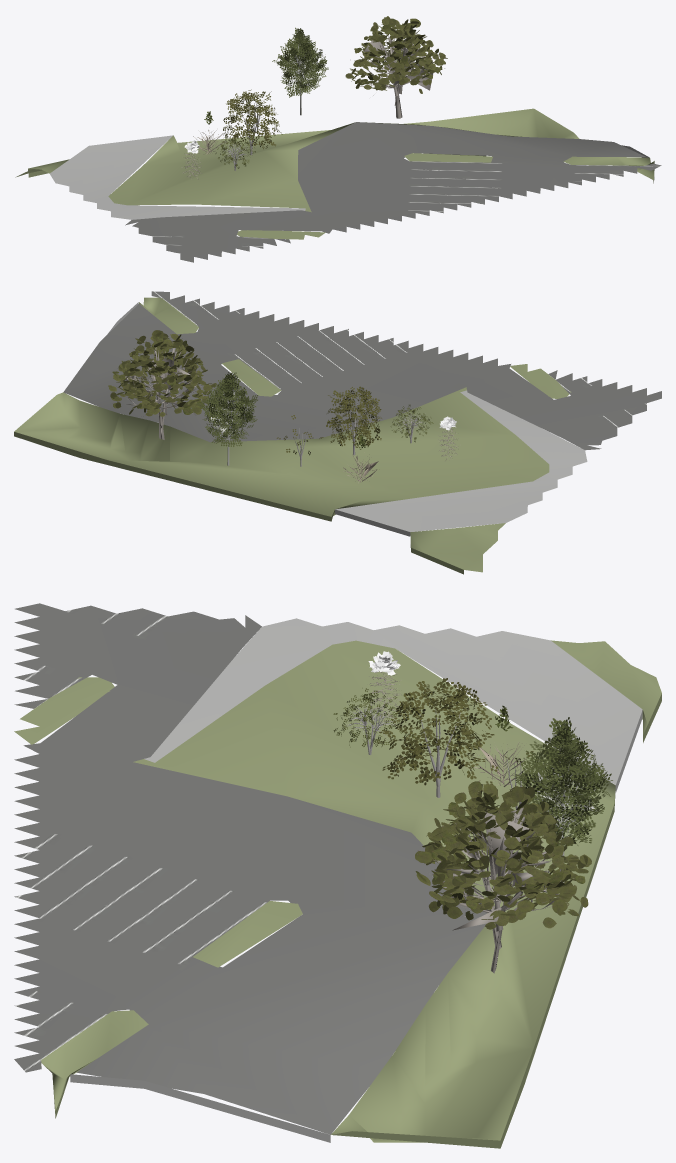
3 views of the same model, one above another, from view 1: azimuth 30°, elevation 25°; view 2: azimuth 150°, elevation 25°; view 3: azimuth 270°, elevation 25° (orthographic). The views are drawn at different scales.
Parts seen in each view (by area): view 1: SW_ground_overlook_asphalt_2_8_UNVERIFIED, SW_Ov_trees_Tree_234_UNVERIFIEDspecies, SW_Ov_trees_Tree_263_UNVERIFIEDspecies, SW_Ov_trees_Tree_301_UNVERIFIEDspecies, SW_Ov_trees_Tree_327_UNVERIFIEDspecies; view 2: SW_ground_overlook_asphalt_2_8_UNVERIFIED, SW_Ov_trees_Tree_234_UNVERIFIEDspecies, SW_Ov_trees_Tree_263_UNVERIFIEDspecies, SW_Ov_trees_Tree_301_UNVERIFIEDspecies, SW_Ov_trees_Tree_327_UNVERIFIEDspecies, SW_Ov_trees_Tree_322_UNVERIFIEDspecies; view 3: SW_ground_overlook_asphalt_2_8_UNVERIFIED, SW_Ov_trees_Tree_234_UNVERIFIEDspecies, SW_Ov_trees_Tree_301_UNVERIFIEDspecies, SW_Ov_trees_Tree_263_UNVERIFIEDspecies, SW_Ov_trees_Tree_327_UNVERIFIEDspecies, SW_Ov_trees_Tree_325_UNVERIFIEDspecies, SW_Ov_trees_Tree_322_UNVERIFIEDspecies.
Part boxes in pixels (x1,y1,x2,y2): SW_ground_overlook_asphalt_2_8_UNVERIFIED: (15, 108, 661, 262); SW_Ov_trees_Tree_234_UNVERIFIEDspecies: (345, 16, 447, 118); SW_Ov_trees_Tree_263_UNVERIFIEDspecies: (272, 27, 328, 115); SW_Ov_trees_Tree_301_UNVERIFIEDspecies: (223, 89, 282, 170); SW_Ov_trees_Tree_327_UNVERIFIEDspecies: (215, 136, 255, 168); SW_ground_overlook_asphalt_2_8_UNVERIFIED: (14, 291, 661, 574); SW_Ov_trees_Tree_234_UNVERIFIEDspecies: (108, 330, 219, 439); SW_Ov_trees_Tree_263_UNVERIFIEDspecies: (197, 372, 257, 465); SW_Ov_trees_Tree_301_UNVERIFIEDspecies: (276, 386, 423, 466); SW_Ov_trees_Tree_327_UNVERIFIEDspecies: (390, 404, 433, 442); SW_Ov_trees_Tree_322_UNVERIFIEDspecies: (343, 435, 378, 483); SW_ground_overlook_asphalt_2_8_UNVERIFIED: (14, 603, 661, 1148); SW_Ov_trees_Tree_234_UNVERIFIEDspecies: (415, 780, 591, 973); SW_Ov_trees_Tree_301_UNVERIFIEDspecies: (345, 678, 547, 809); SW_Ov_trees_Tree_263_UNVERIFIEDspecies: (514, 717, 612, 882); SW_Ov_trees_Tree_327_UNVERIFIEDspecies: (333, 688, 408, 747); SW_Ov_trees_Tree_325_UNVERIFIEDspecies: (365, 651, 401, 724); SW_Ov_trees_Tree_322_UNVERIFIEDspecies: (470, 705, 530, 786).
Bounding box in the file's own units: 69 × 19.54 × 43.68.
14 materials, 6 textured.
